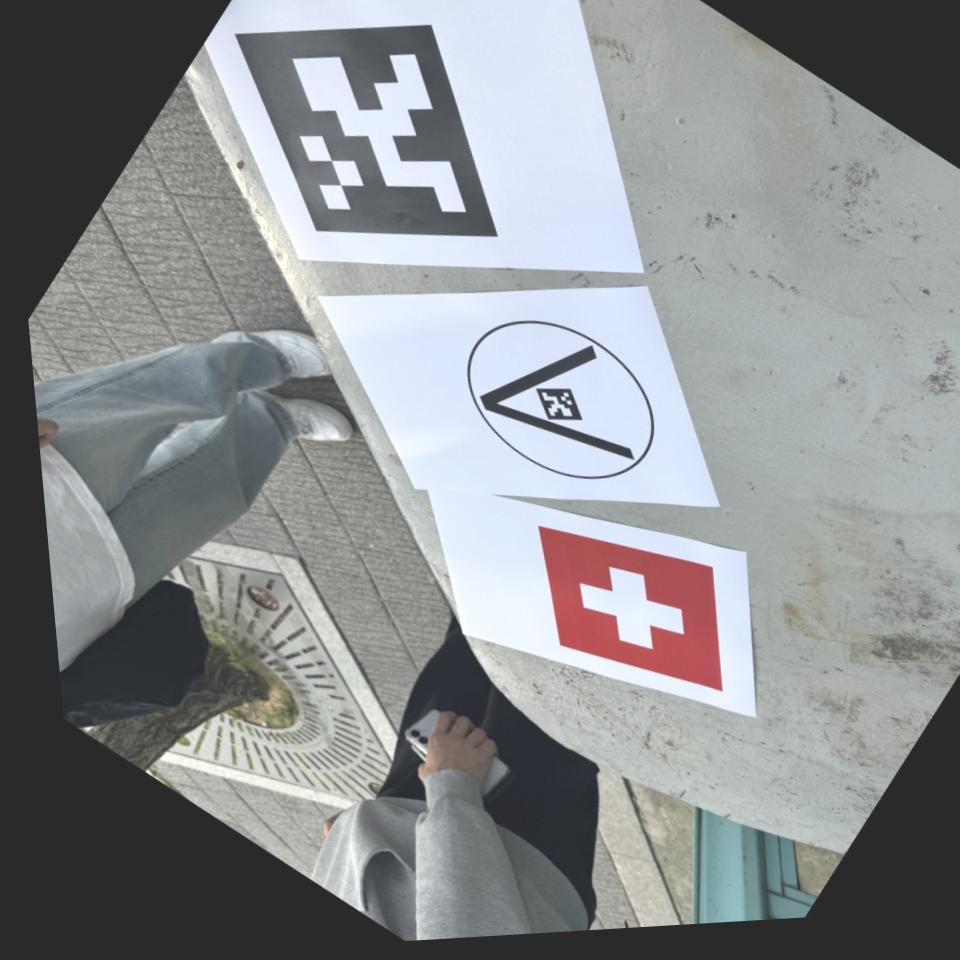ArUro mark: (236, 26, 497, 237)
rescue point: (539, 528, 720, 690)
vertiport: (418, 269, 697, 529)
